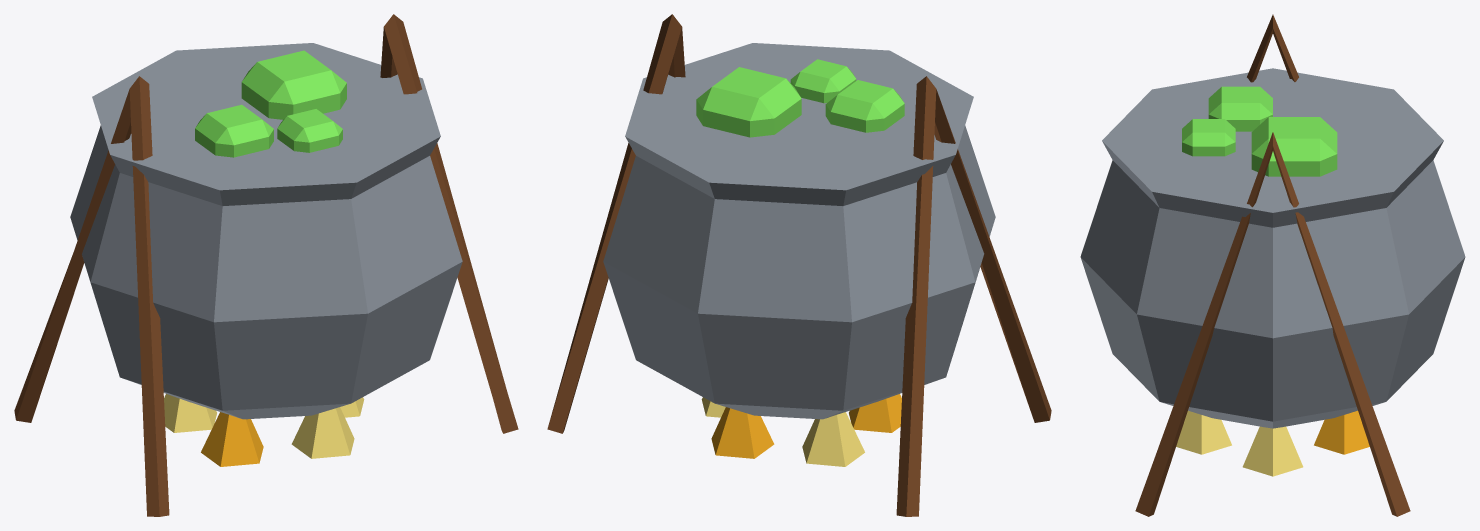
Rendered from BubblingCauldron.fbx.
The picture shows the model from 3 angles, left to right: view 1: azimuth 30°, elevation 25°; view 2: azimuth 150°, elevation 25°; view 3: azimuth 270°, elevation 25°; orthographic projection. The views are drawn at different scales.
Parts seen in each view (by area): view 1: BubblingCauldron; view 2: BubblingCauldron; view 3: BubblingCauldron.
Boxes of the visible parts, x1,y1,x2,y2 form: BubblingCauldron: [14, 14, 518, 516]; BubblingCauldron: [547, 14, 1051, 516]; BubblingCauldron: [1080, 14, 1465, 516].
Bounding box in the file's own units: 3.78 × 3.73 × 3.6.
Materials: 1 (1 with a texture image).
